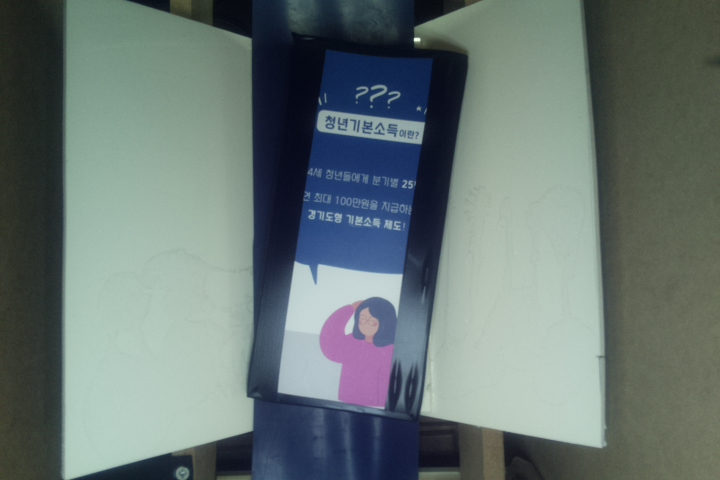book: (245, 39, 478, 424)
